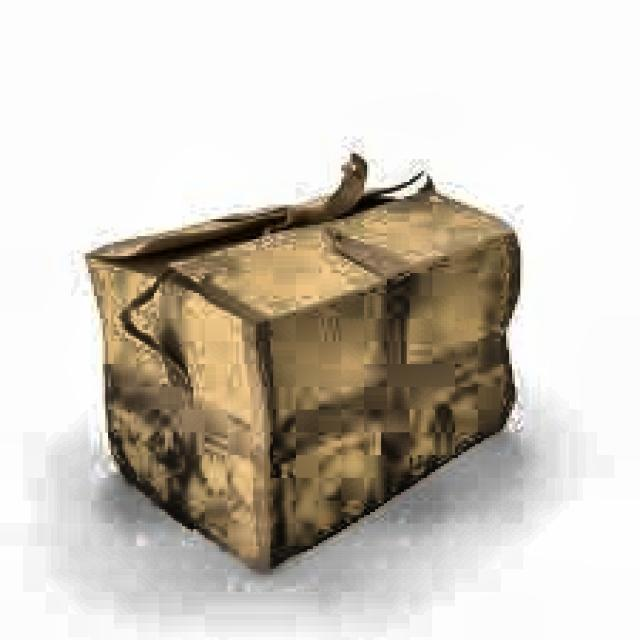cardboard: (82, 156, 520, 572)
